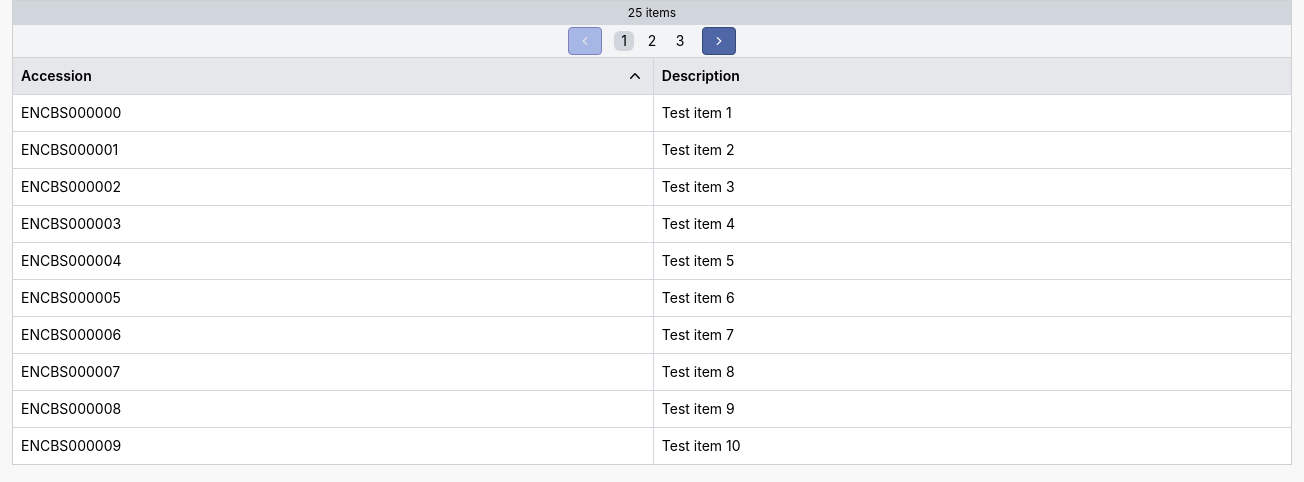
Test: Test the pager › renders a pager
The width and height of the screenshot is (1304, 482).
Expected: the navigation bar is shown, [568, 27, 736, 55]
Expected: the button "1" is shown, [614, 31, 634, 51]
Note: Click the right arrow to go to the next page.
Step 1. Click the button named "Next page" → coordinates (719, 41), box [702, 27, 736, 55]
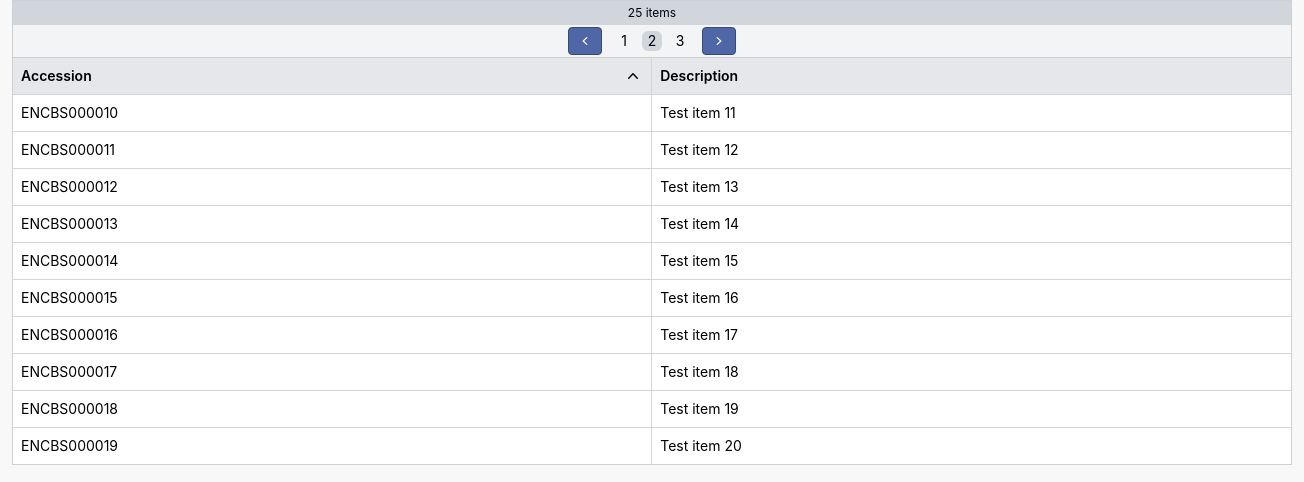
Now the button named "Previous page" is enabled, box [568, 27, 602, 55]
Note: Click right arrow again to go to page 3 (last page)
Step 2. Click the button named "Next page" → coordinates (719, 41), box [702, 27, 736, 55]
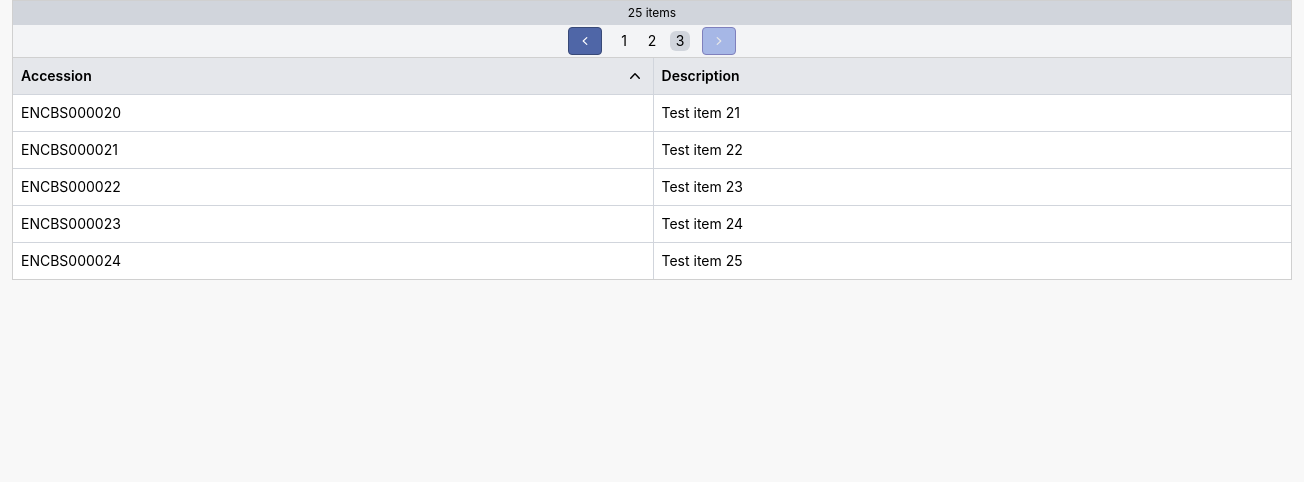
Now the button named "Previous page" is enabled, box [568, 27, 602, 55]
Now the button named "Next page" is disabled, box [702, 27, 736, 55]
